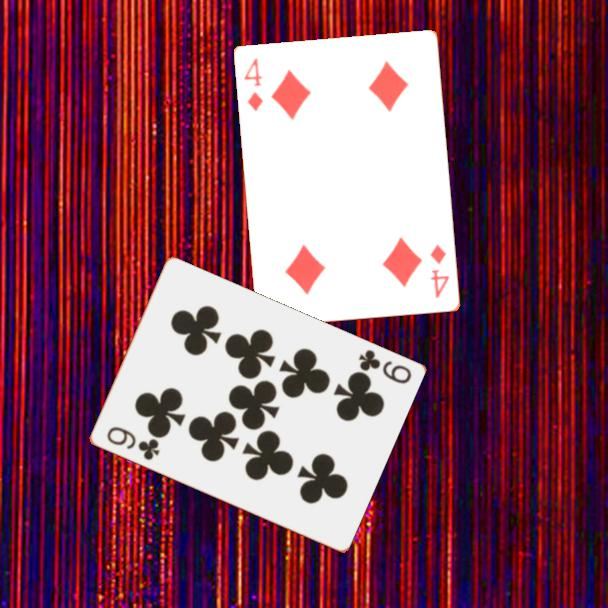c09: (354, 346, 414, 387), (103, 423, 162, 464)
d04: (427, 241, 453, 301), (241, 54, 266, 115)
